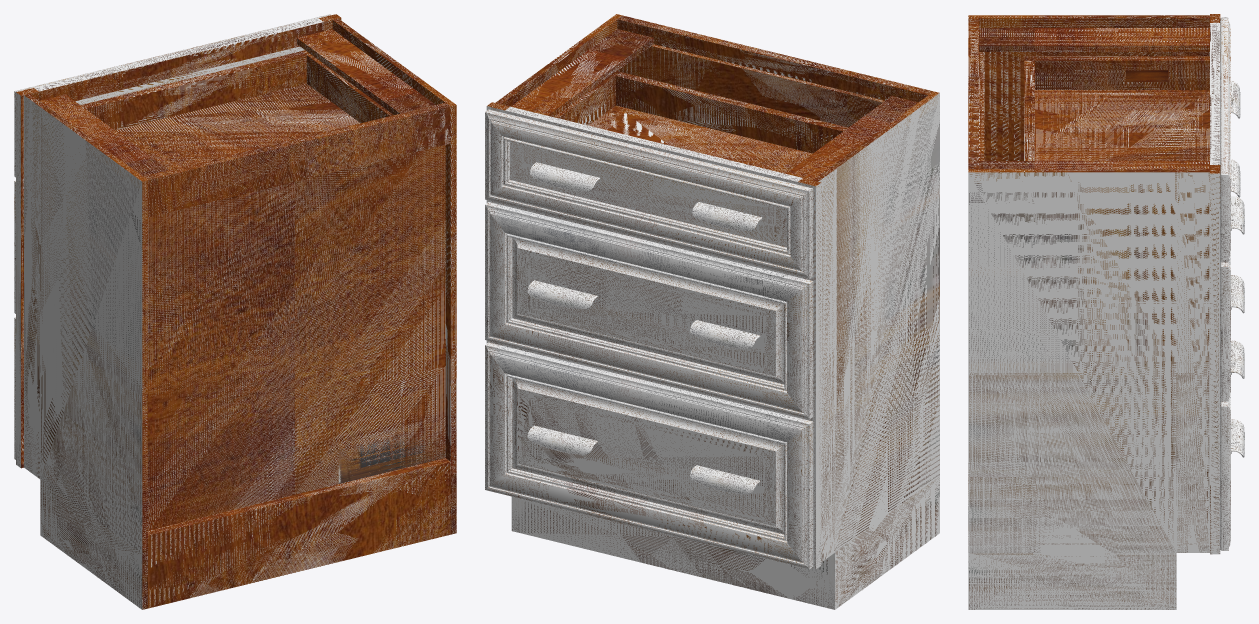
3 views of the same model, side by side, from view 1: azimuth 30°, elevation 25°; view 2: azimuth 150°, elevation 25°; view 3: azimuth 270°, elevation 25° (orthographic). The views are drawn at different scales.
Visible parts, largest first — view 1: mesh4_mesh4-geometry, mesh7_mesh7-geometry, mesh12_mesh12-geometry, mesh3_mesh3-geometry, mesh19_mesh19-geometry, mesh17_mesh17-geometry, mesh6_mesh6-geometry, mesh5_mesh5-geometry, mesh8_mesh8-geometry, mesh10_mesh10-geometry, mesh14_mesh14-geometry, mesh2_mesh2-geometry (+4 smaller); view 2: mesh7_mesh7-geometry, mesh25_mesh25-geometry, mesh29_mesh29-geometry, mesh26_mesh26-geometry, mesh13_mesh13-geometry, mesh4_mesh4-geometry, mesh17_mesh17-geometry, mesh36_mesh36-geometry, mesh37_mesh37-geometry, mesh41_mesh41-geometry, mesh8_mesh8-geometry, mesh3_mesh3-geometry (+22 smaller); view 3: mesh10_mesh10-geometry, mesh9_mesh9-geometry, mesh19_mesh19-geometry, mesh11_mesh11-geometry, mesh7_mesh7-geometry, mesh15_mesh15-geometry, mesh16_mesh16-geometry, mesh2_mesh2-geometry, mesh14_mesh14-geometry, mesh31_mesh31-geometry, mesh3_mesh3-geometry, mesh5_mesh5-geometry (+11 smaller).
Boxes of the visible parts, left/top/right/bottom form: mesh4_mesh4-geometry: left=148, top=145, right=445, bottom=530; mesh7_mesh7-geometry: left=40, top=105, right=147, bottom=553; mesh12_mesh12-geometry: left=148, top=458, right=450, bottom=608; mesh3_mesh3-geometry: left=143, top=102, right=450, bottom=217; mesh19_mesh19-geometry: left=115, top=83, right=360, bottom=169; mesh17_mesh17-geometry: left=80, top=51, right=306, bottom=130; mesh6_mesh6-geometry: left=24, top=94, right=45, bottom=478; mesh5_mesh5-geometry: left=34, top=18, right=323, bottom=101; mesh8_mesh8-geometry: left=40, top=480, right=147, bottom=609; mesh10_mesh10-geometry: left=348, top=30, right=456, bottom=478; mesh14_mesh14-geometry: left=297, top=29, right=435, bottom=114; mesh2_mesh2-geometry: left=16, top=14, right=341, bottom=468; mesh7_mesh7-geometry: left=829, top=91, right=939, bottom=552; mesh25_mesh25-geometry: left=529, top=213, right=767, bottom=456; mesh29_mesh29-geometry: left=529, top=259, right=763, bottom=515; mesh26_mesh26-geometry: left=529, top=309, right=765, bottom=557; mesh13_mesh13-geometry: left=518, top=498, right=828, bottom=608; mesh4_mesh4-geometry: left=617, top=44, right=884, bottom=127; mesh17_mesh17-geometry: left=616, top=72, right=847, bottom=153; mesh36_mesh36-geometry: left=520, top=118, right=775, bottom=207; mesh37_mesh37-geometry: left=520, top=181, right=774, bottom=269; mesh41_mesh41-geometry: left=523, top=147, right=774, bottom=241; mesh8_mesh8-geometry: left=829, top=476, right=939, bottom=609; mesh3_mesh3-geometry: left=617, top=15, right=933, bottom=102; mesh10_mesh10-geometry: left=968, top=169, right=1176, bottom=552; mesh9_mesh9-geometry: left=1176, top=169, right=1209, bottom=552; mesh19_mesh19-geometry: left=1035, top=90, right=1209, bottom=160; mesh11_mesh11-geometry: left=968, top=553, right=1176, bottom=609; mesh7_mesh7-geometry: left=968, top=15, right=1176, bottom=160; mesh15_mesh15-geometry: left=979, top=28, right=1209, bottom=51; mesh16_mesh16-geometry: left=1024, top=56, right=1209, bottom=89; mesh2_mesh2-geometry: left=1210, top=14, right=1220, bottom=554; mesh14_mesh14-geometry: left=979, top=161, right=1209, bottom=169; mesh31_mesh31-geometry: left=1231, top=196, right=1244, bottom=457; mesh3_mesh3-geometry: left=968, top=18, right=978, bottom=169; mesh5_mesh5-geometry: left=1210, top=23, right=1220, bottom=164.
Size of the model in its own units: 0.562 by 0.7181 by 0.4104.
